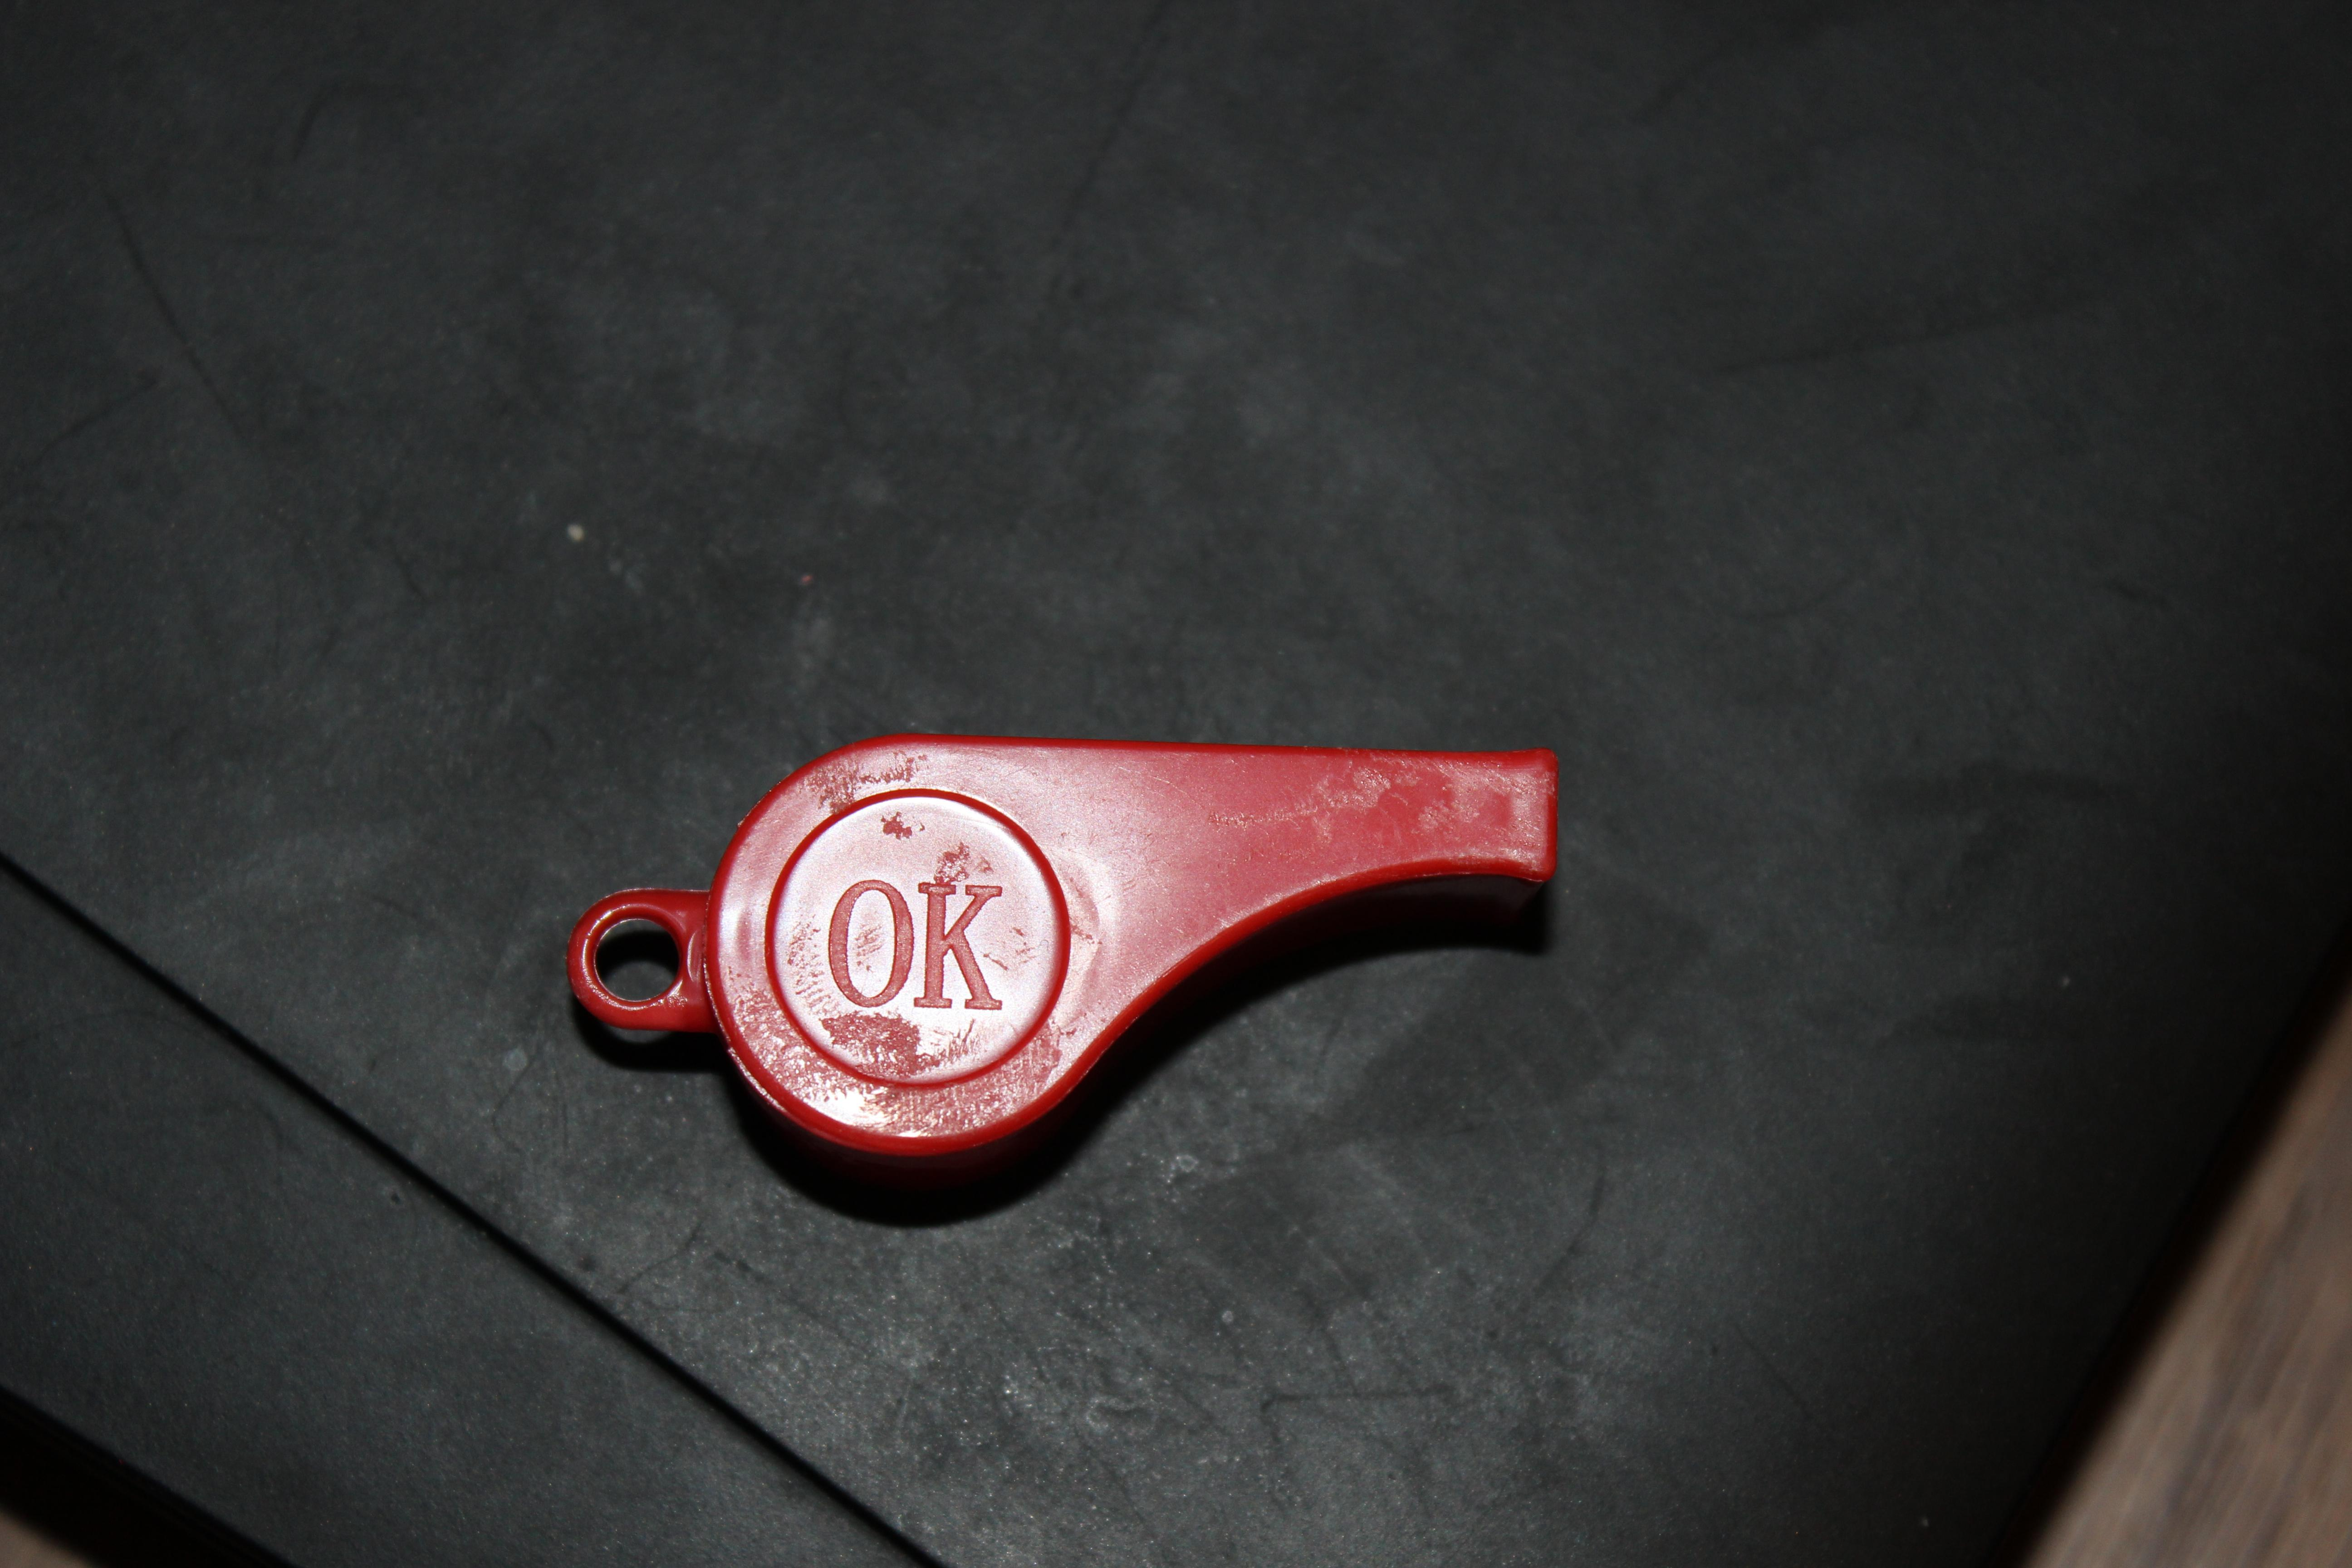redWhistle: (537, 679, 1596, 1249)
